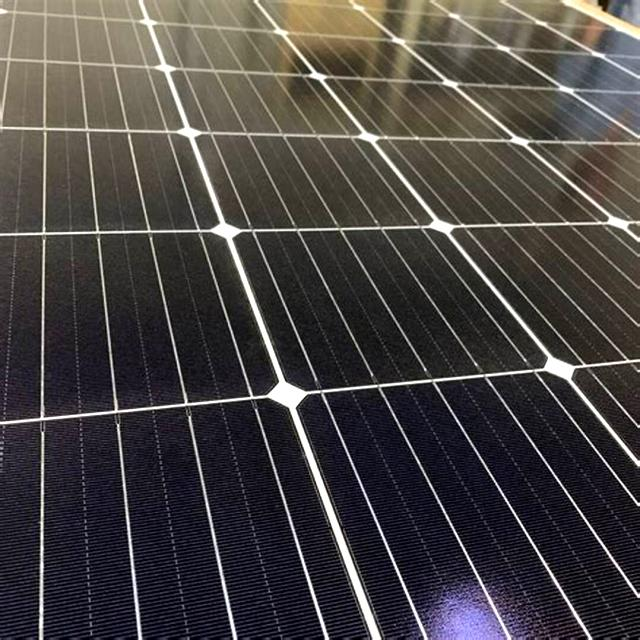crack: (0, 402, 466, 640), (258, 364, 640, 640), (202, 208, 586, 425), (0, 223, 311, 458), (410, 210, 640, 432), (178, 128, 460, 268), (360, 119, 626, 259), (0, 117, 245, 261)
